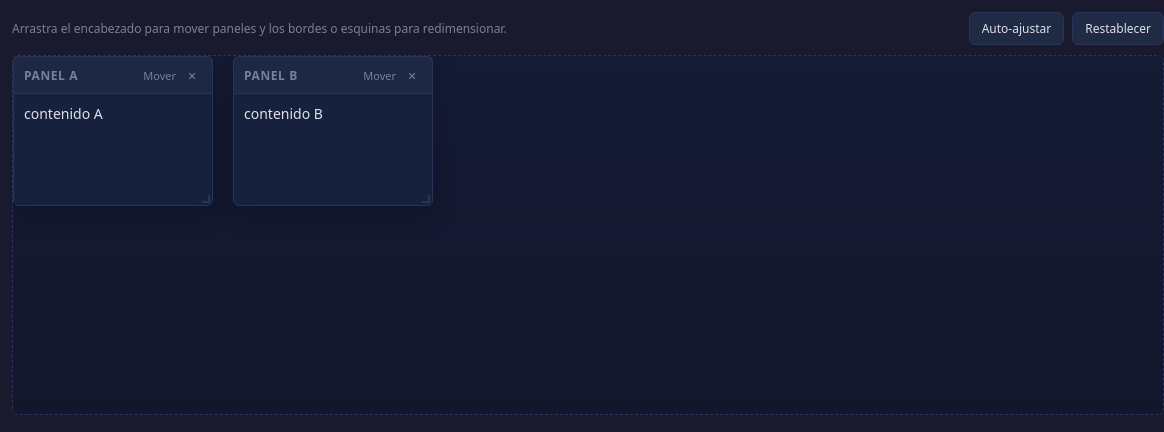
Test: PanelWorkspace › closes a panel and shows it again via "Añadir panel" menu
# Cerrar Panel A
What coordinates should you click on to do the following:
click the button titled "Cerrar Panel A" in the row of "Panel A"
I would click on:
 (192, 75)
Its box is [182,65,202,85].
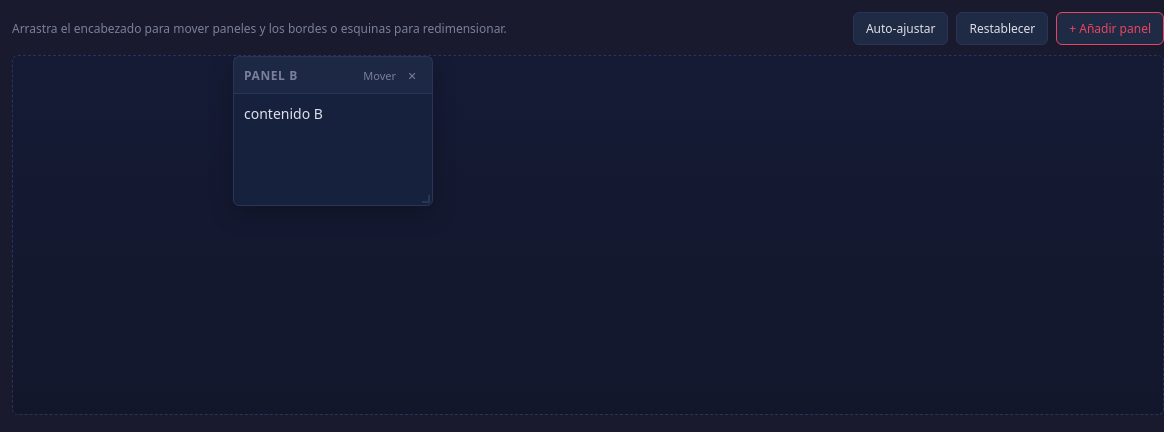
Result: the text "contenido A" is gone
# Aparece el botón de añadir
What coordinates should you click on to do the following:
click the button "+ Añadir panel"
I would click on:
 (1110, 28)
Its box is [1056,12,1163,45].
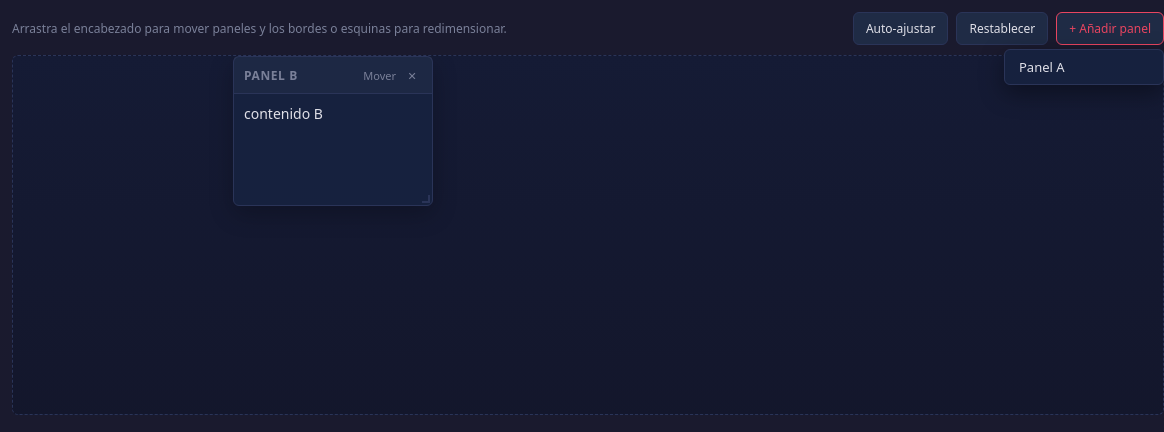
What coordinates should you click on to do the following:
click the button "Panel A"
I would click on:
 (1084, 67)
Its box is [1005,50,1163,84].
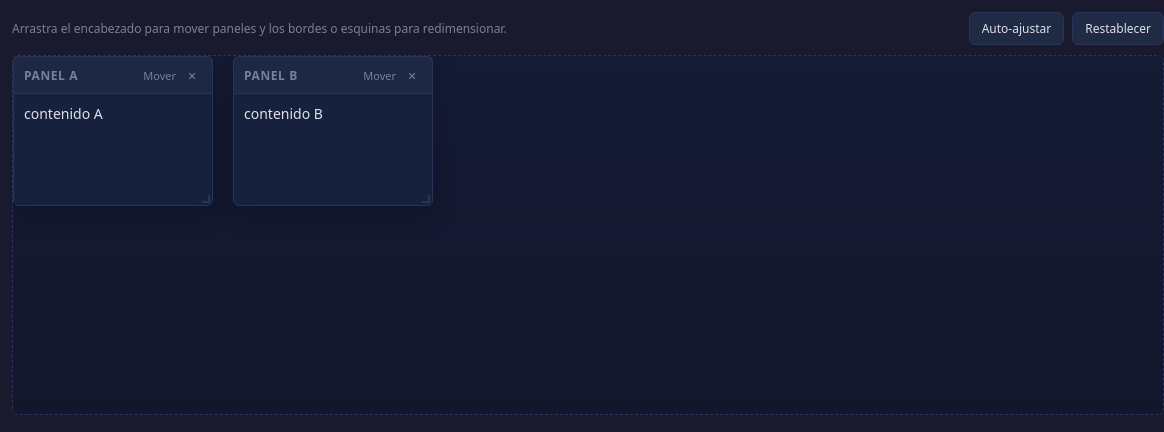
Result: the text "contenido A" is shown at [24,104,103,123]
